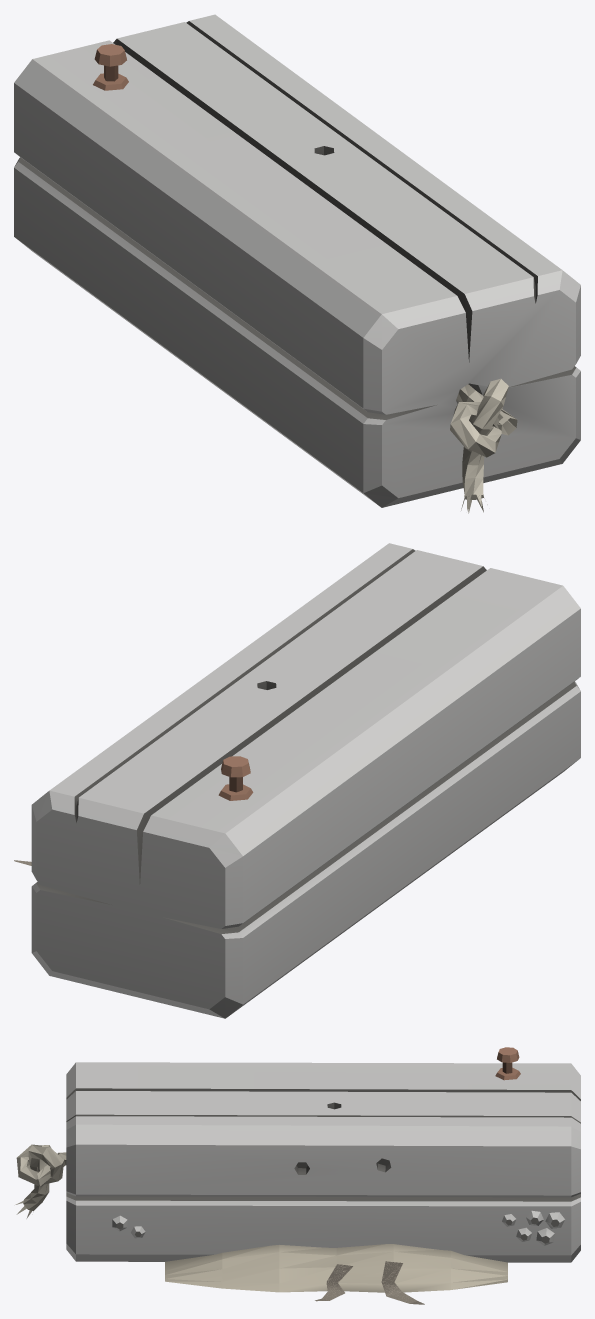
Rendered from driftwood.glb.
3 renders of one model, top to bottom at view 1: azimuth 30°, elevation 25°; view 2: azimuth 150°, elevation 25°; view 3: azimuth 270°, elevation 25°, orthographic. The views are drawn at different scales.
Visible parts, largest first — view 1: driftwood.001; view 2: driftwood.001; view 3: driftwood.001.
Boxes of the visible parts, bbox=[...] form: driftwood.001: bbox=[14, 14, 580, 513]; driftwood.001: bbox=[14, 543, 580, 1018]; driftwood.001: bbox=[15, 1047, 580, 1304].
Size of the model in its own units: 1.31 by 0.823 by 2.64.
